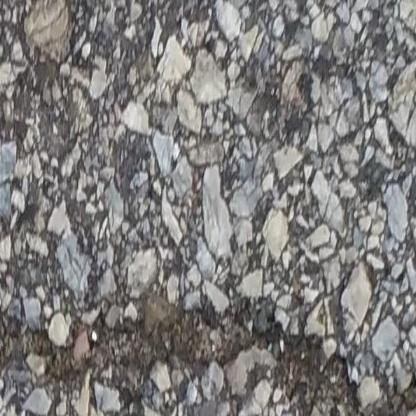Cracks: (0, 298, 416, 416)
